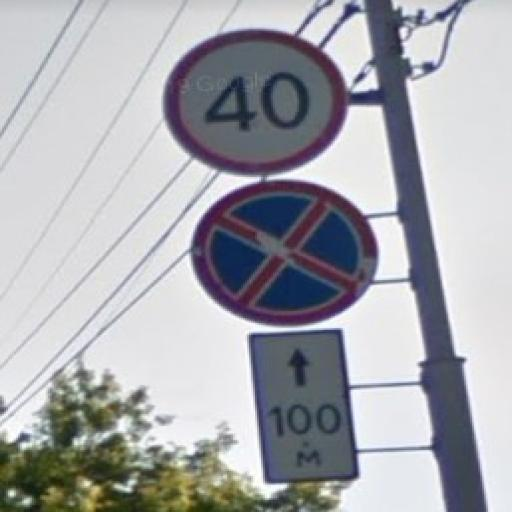traffic_sign: (192, 178, 382, 326), (164, 29, 352, 177)
